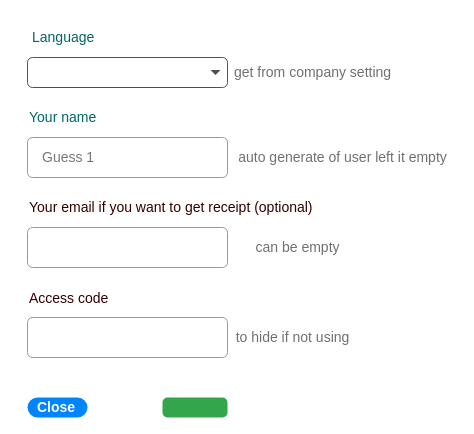
Some shapes in this 474 by 434 pixel diagram are drawn without their labels. The centre of each missing label's shape, as x and y in pixels:
"English" belongs at point 127,72.
"OK" belongs at point 194,407.
